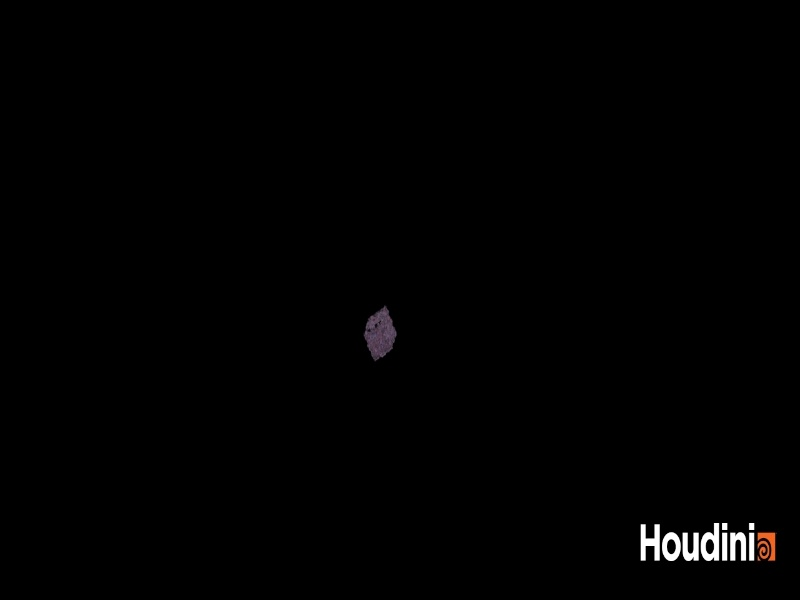waste: (359, 302, 406, 367)
